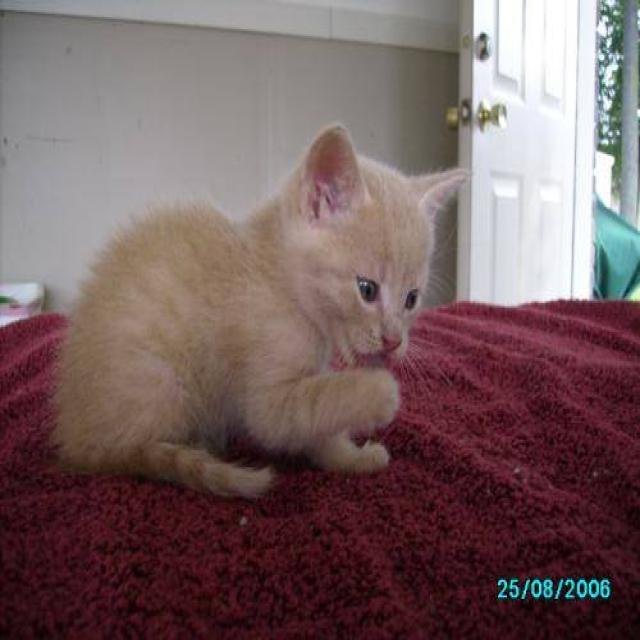cat: (48, 122, 470, 500)
